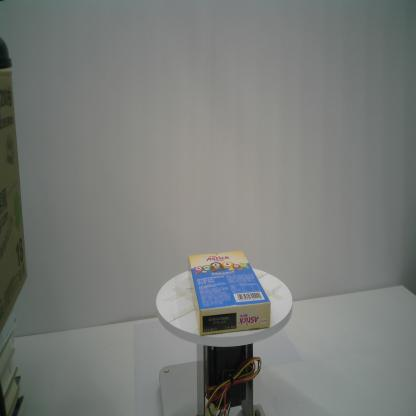Dessert: (188, 250, 270, 336)
